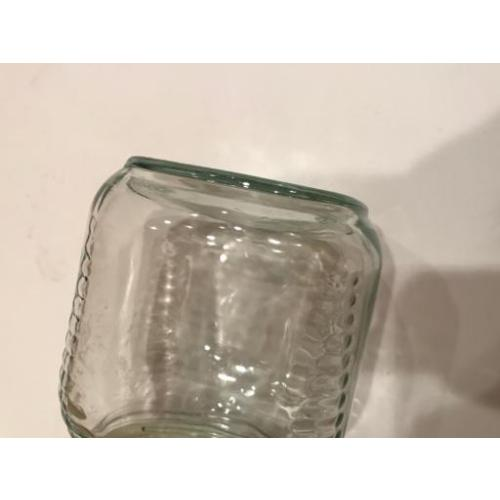glass: (66, 155, 383, 437)
